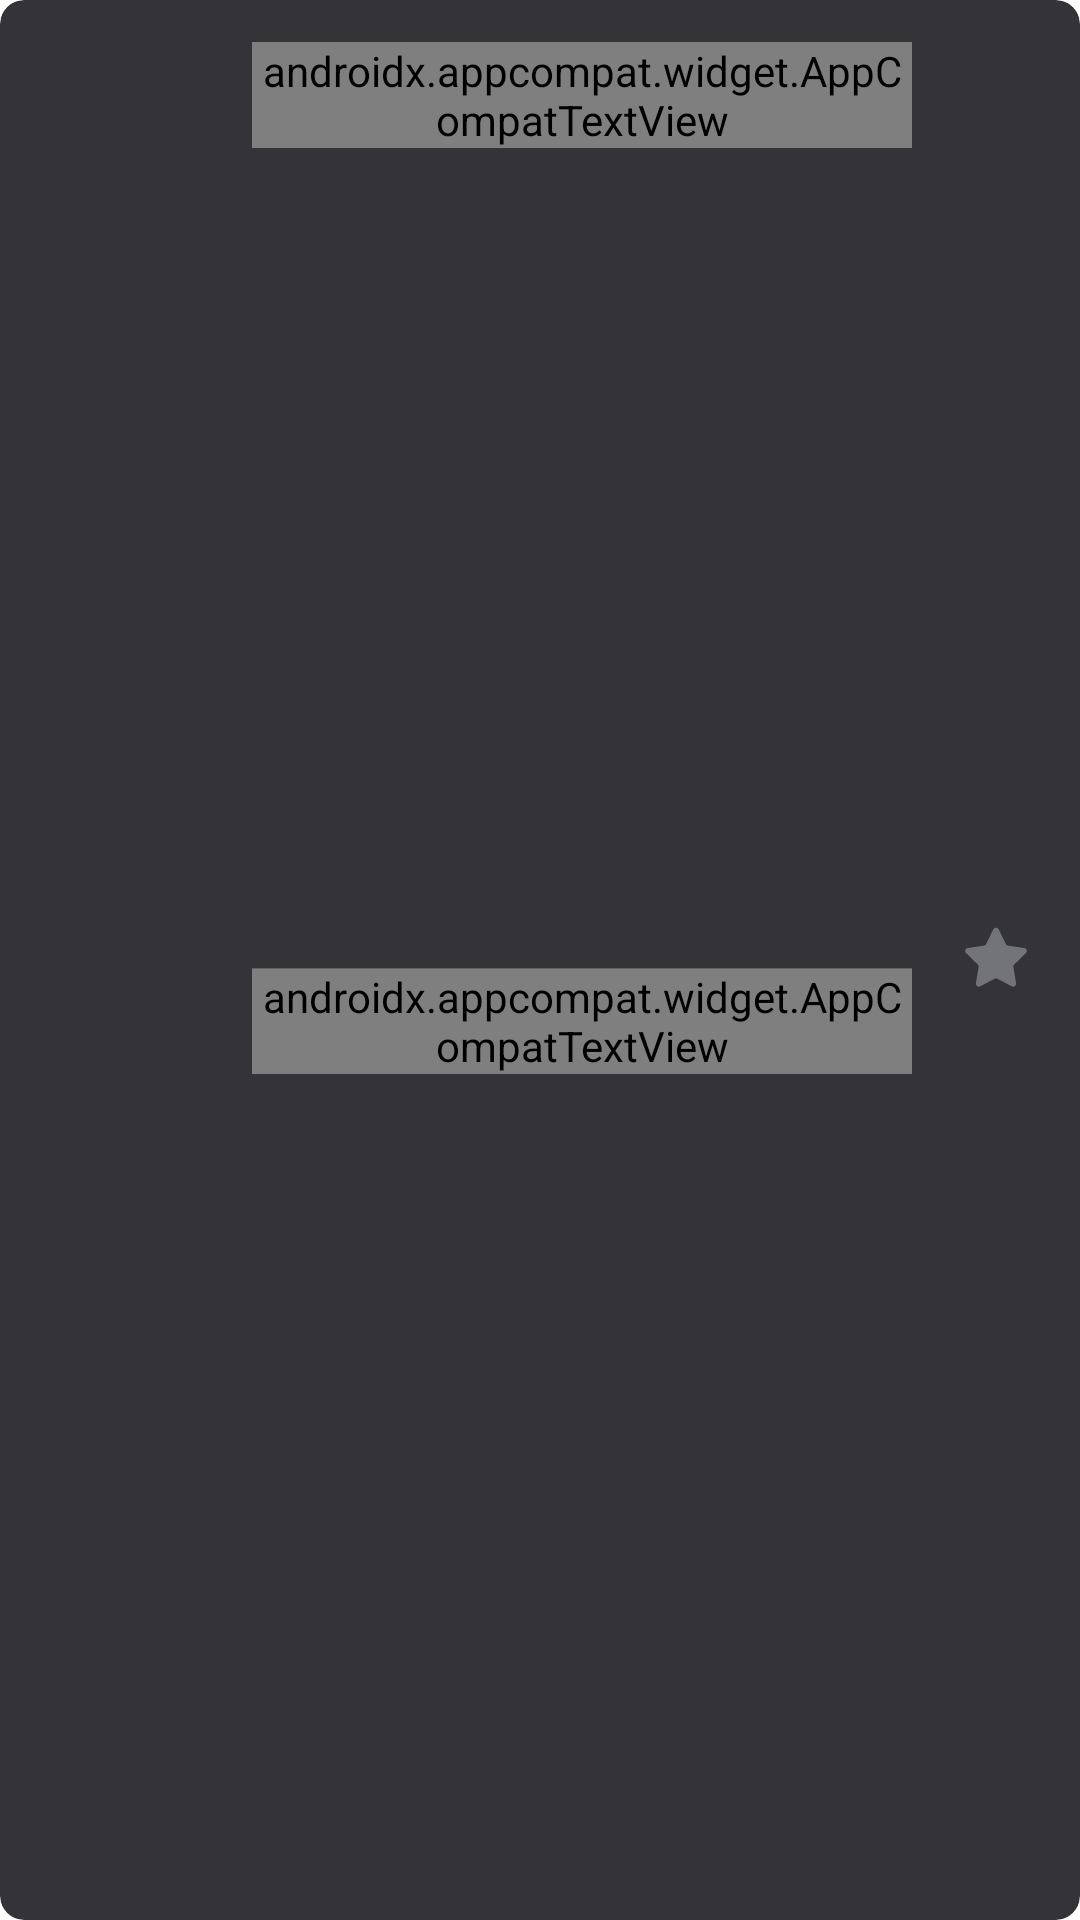

Locate icon controls on the screen. Image size 1080×1920, boxes as (x1, y1, x2, y2).
favorite: (965, 928, 1027, 987)
